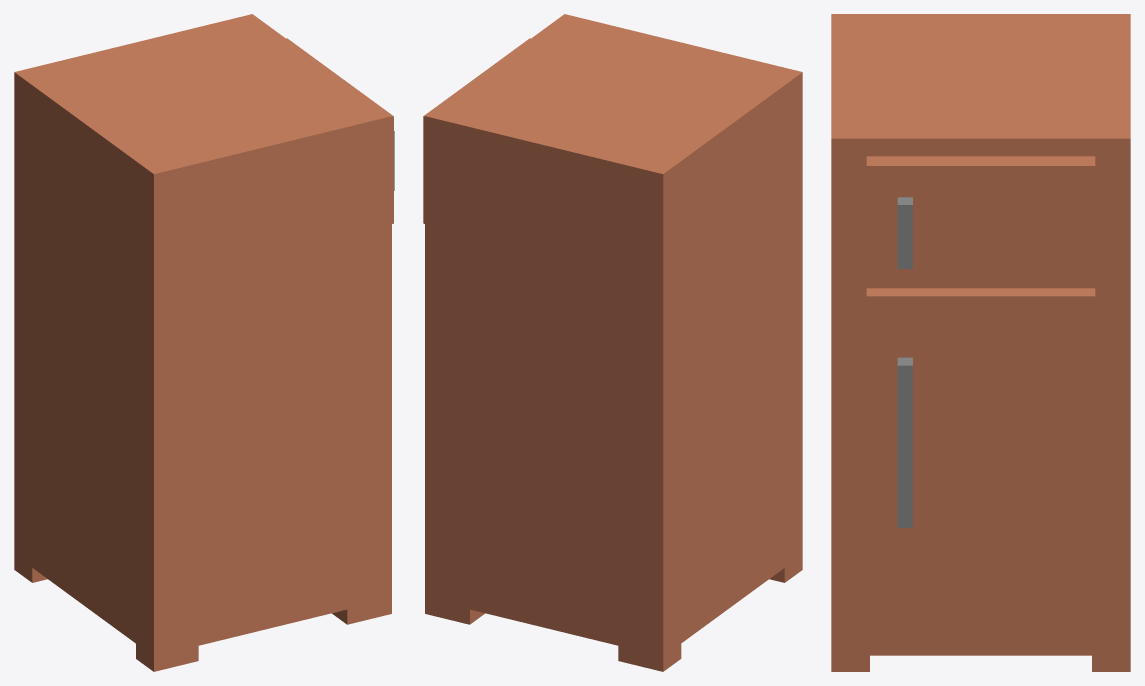
File: Geladeira.fbx
The picture shows the model from 3 angles, left to right: view 1: azimuth 30°, elevation 25°; view 2: azimuth 150°, elevation 25°; view 3: azimuth 270°, elevation 25°; orthographic projection. The views are drawn at different scales.
Parts seen in each view (by area): view 1: Geladeira; view 2: Geladeira; view 3: Geladeira, Geladeira_Porta, Geladeira_Porta.001.
Part boxes in pixels (bbox=[...]): Geladeira: bbox=[14, 14, 391, 671]; Geladeira: bbox=[425, 14, 802, 671]; Geladeira: bbox=[831, 14, 1130, 671]; Geladeira_Porta: bbox=[866, 288, 1095, 647]; Geladeira_Porta.001: bbox=[866, 156, 1095, 280].
Bounding box in the file's own units: 117 × 205 × 104.
